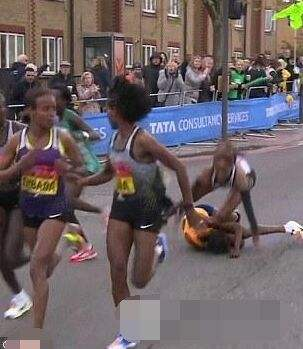10+: (1, 39, 303, 349)
down: (181, 200, 280, 254)
